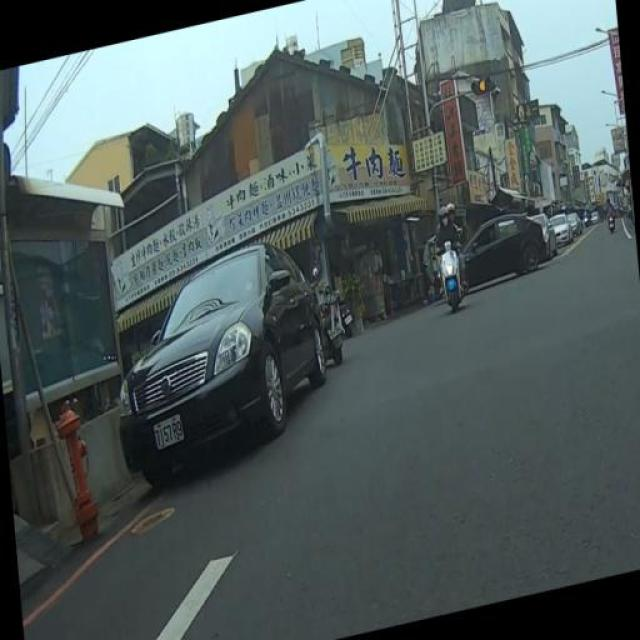illegalparking: (88, 215, 356, 502)
